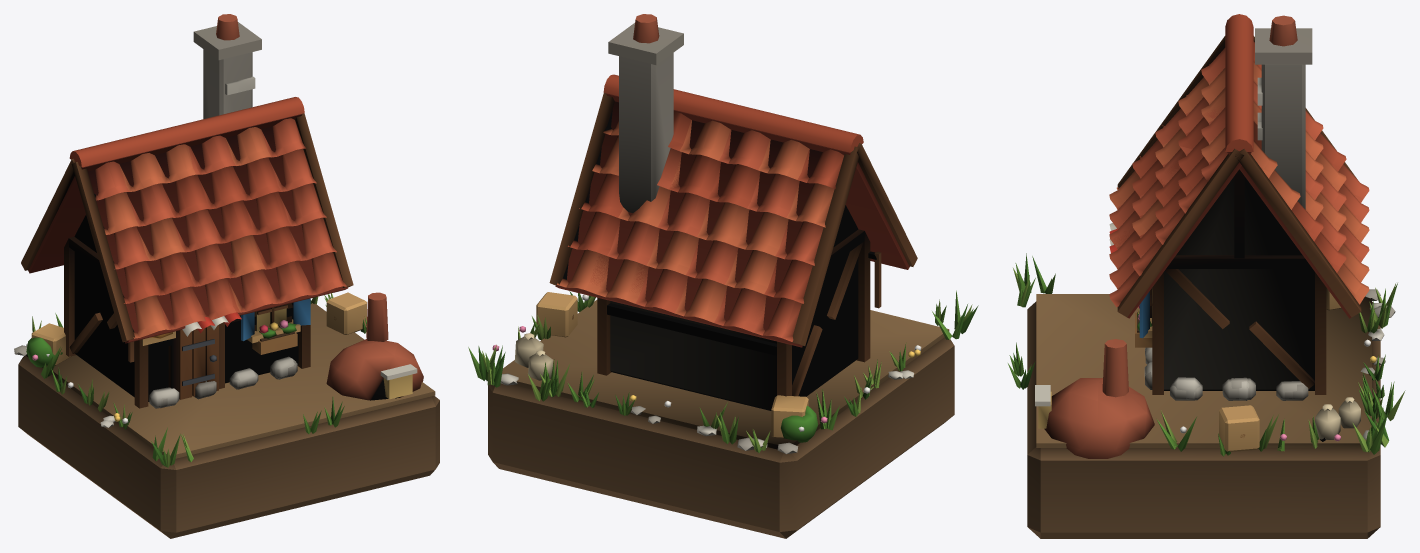
Rendered from bakery.glb.
3 views of the same model, side by side, from view 1: azimuth 30°, elevation 25°; view 2: azimuth 150°, elevation 25°; view 3: azimuth 270°, elevation 25° (orthographic). The views are drawn at different scales.
Visible parts, largest first — view 1: bakery_l1, bakery_l2, bakery_l3; view 2: bakery_l1, bakery_l2, bakery_l3; view 3: bakery_l1, bakery_l2, bakery_l3.
Boxes of the visible parts, <box> form: bakery_l1: <box>14,14,439,538</box>; bakery_l2: <box>26,80,366,467</box>; bakery_l3: <box>26,76,333,461</box>; bakery_l1: <box>468,14,954,538</box>; bakery_l2: <box>528,154,978,437</box>; bakery_l3: <box>481,273,967,450</box>; bakery_l1: <box>1027,14,1397,538</box>; bakery_l2: <box>1008,77,1405,456</box>; bakery_l3: <box>1009,115,1395,452</box>.
Size of the model in its own units: 0.9218 by 1.16 by 0.902.
